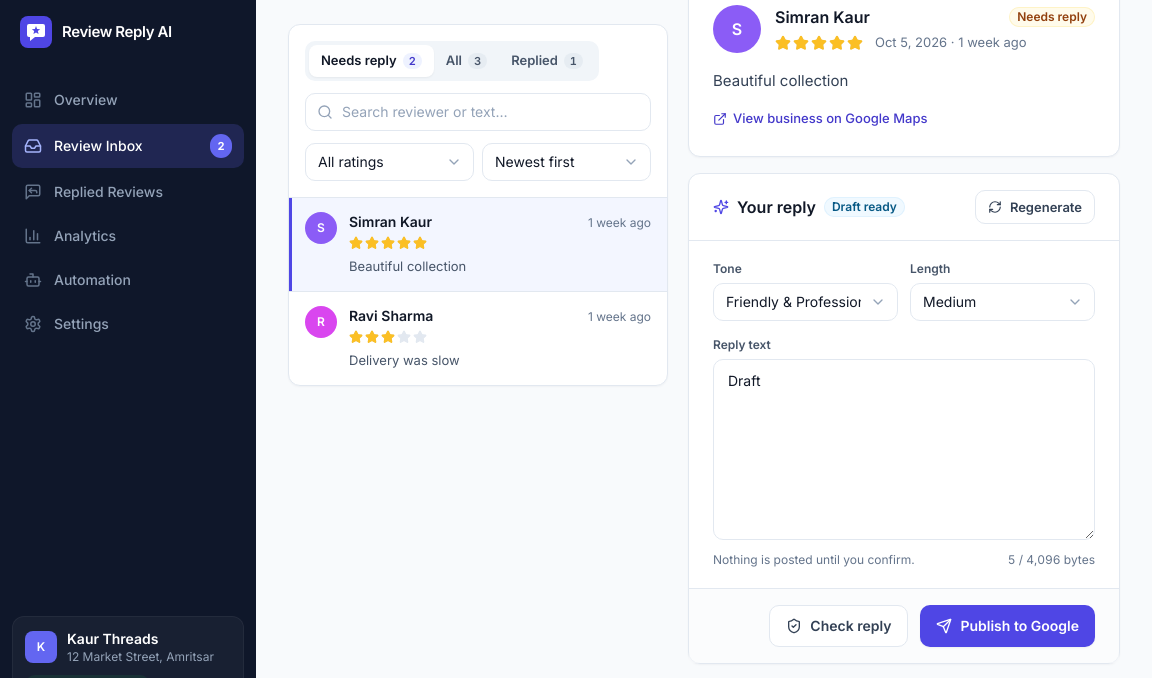
it: Reply workspace › never claims success when Google already has a reply (409)
(page scrolled)
expect the text box labelled "Reply text" holds "Draft": met, box [713,359,1095,540]
Click the button "Publish to Google" at [1008, 626], box [920,605,1095,647]
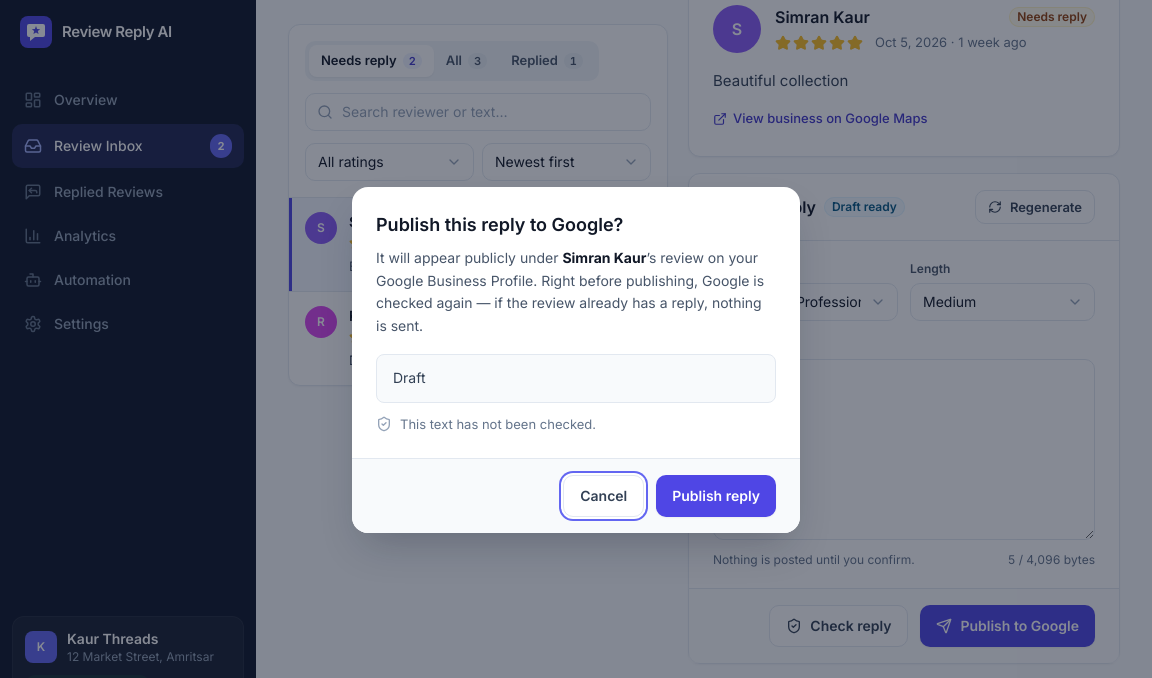
Click the button "Publish reply" at [716, 496], box [656,475,776,517]
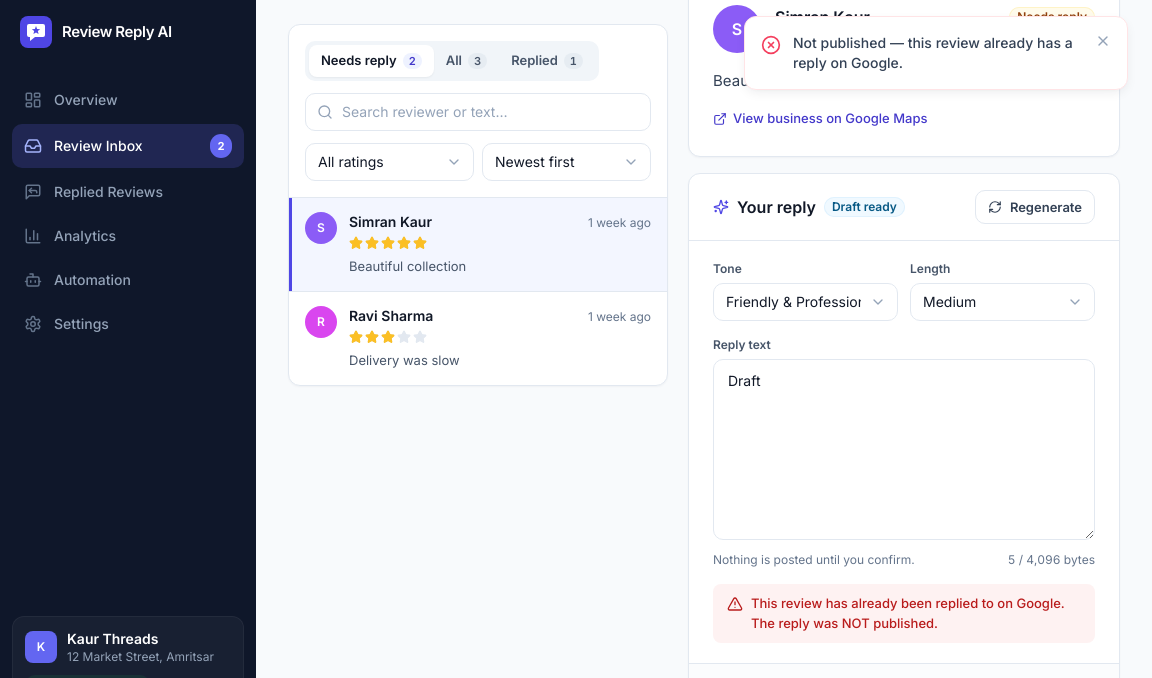
expect the text "The reply was NOT published" is shown: met, box [751,595,1065,631]
